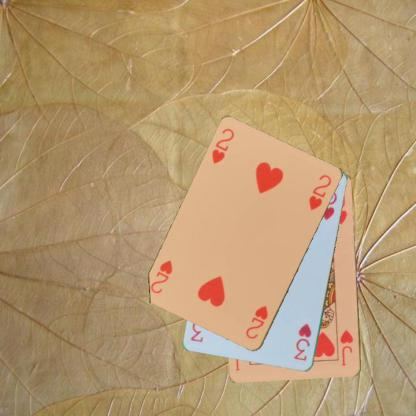2h: (209, 126, 236, 165), (243, 303, 269, 341)
3h: (291, 321, 313, 362)
Jh: (338, 327, 355, 368)
